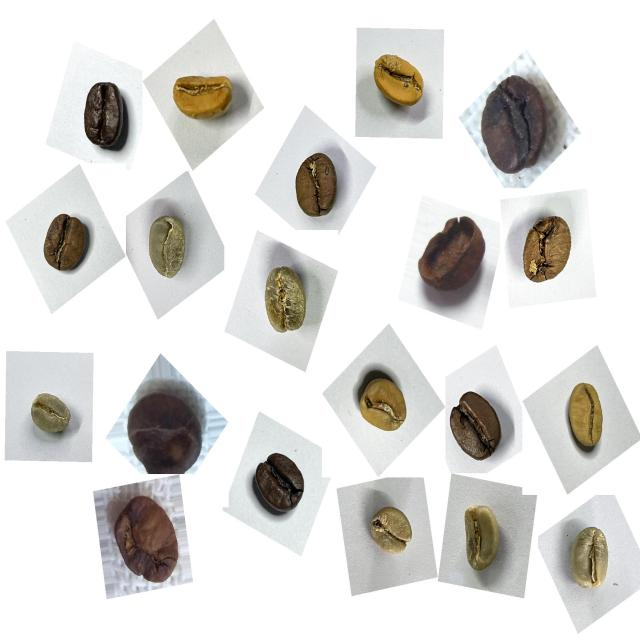bad: (471, 64, 567, 186), (121, 374, 213, 482), (101, 485, 190, 596), (410, 209, 494, 310)
dark: (247, 441, 318, 528), (73, 73, 140, 163)
green: (253, 257, 321, 346), (452, 495, 516, 584), (559, 516, 623, 602), (136, 206, 199, 291), (362, 498, 422, 568), (20, 384, 80, 449)
light: (553, 373, 618, 463), (348, 363, 416, 447), (165, 62, 242, 136), (361, 41, 431, 122)
medium: (510, 203, 584, 300), (441, 383, 512, 471), (286, 146, 350, 228), (34, 207, 97, 285)
